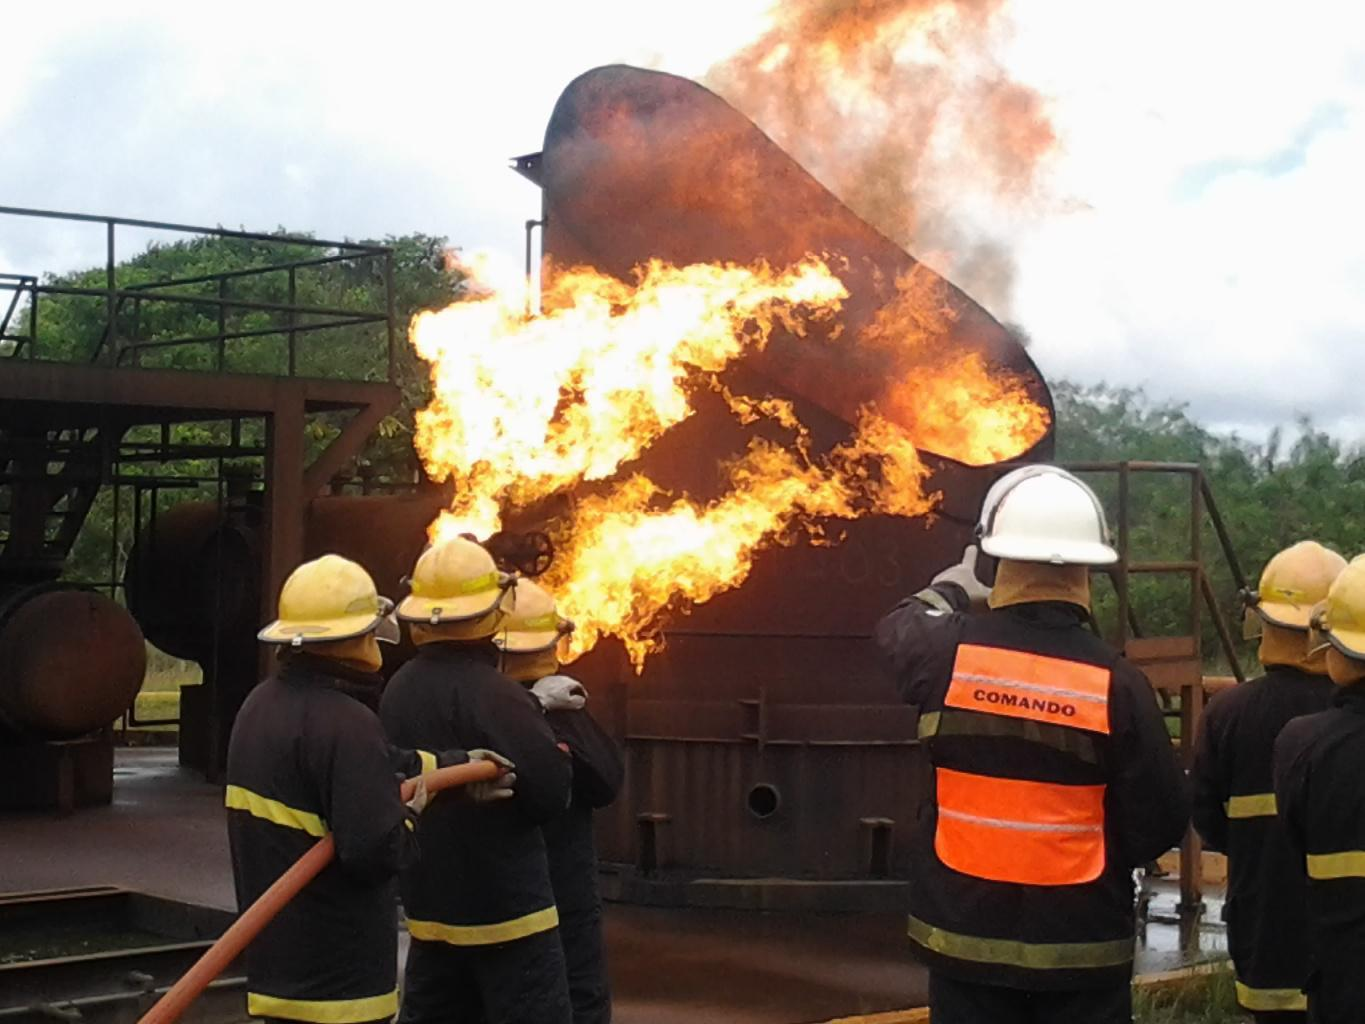fire: (403, 11, 1030, 675)
